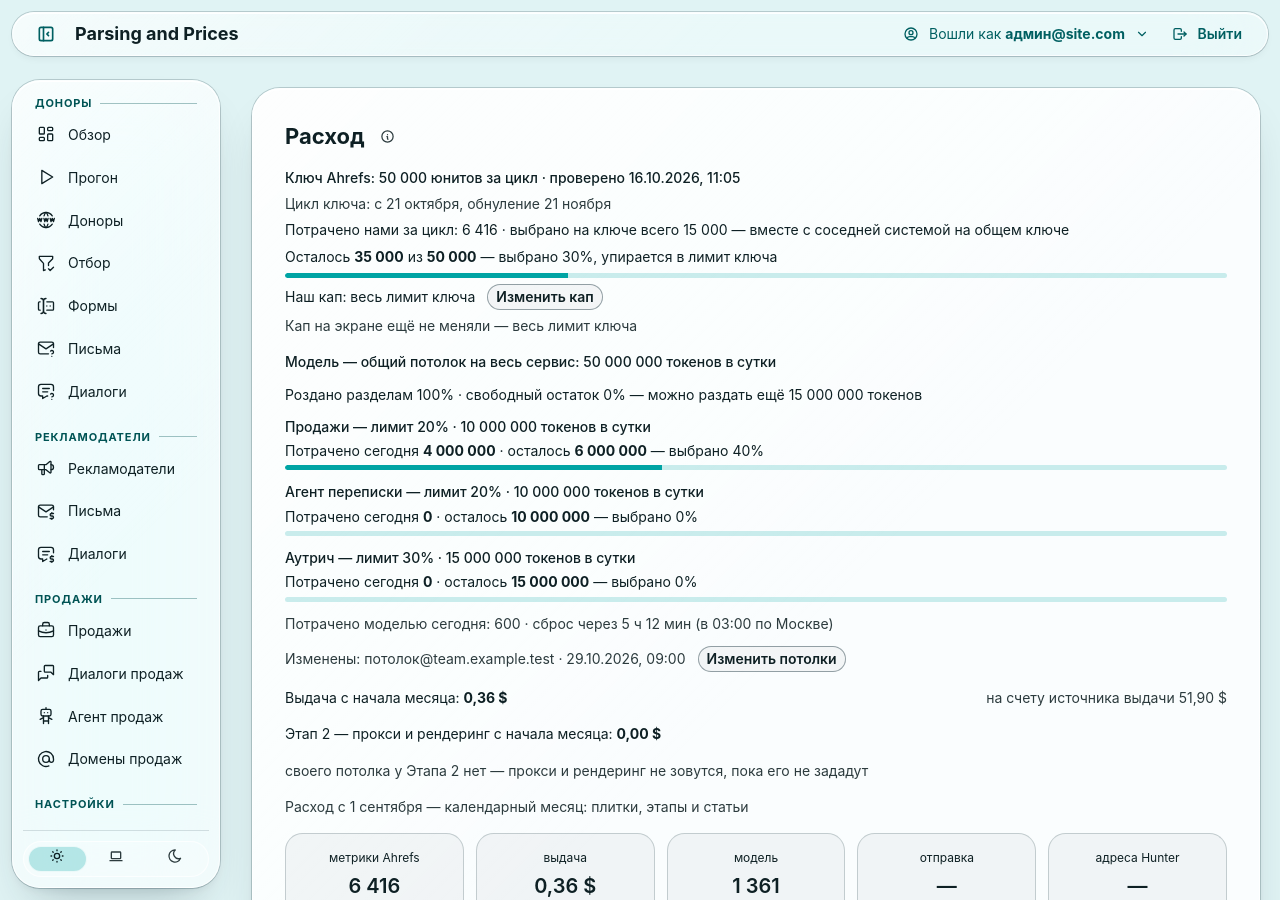
it: потолки модели на «Расходе» › раздать больше остатка и убавить до нуля нельзя
expect the text "Наш кап: весь лимит ключа" is shown: met, box [285,287,475,307]
What coordinates should you click on to do the following:
click the button "Изменить потолки"
I would click on:
 (772, 659)
Its box is [698,646,846,672].
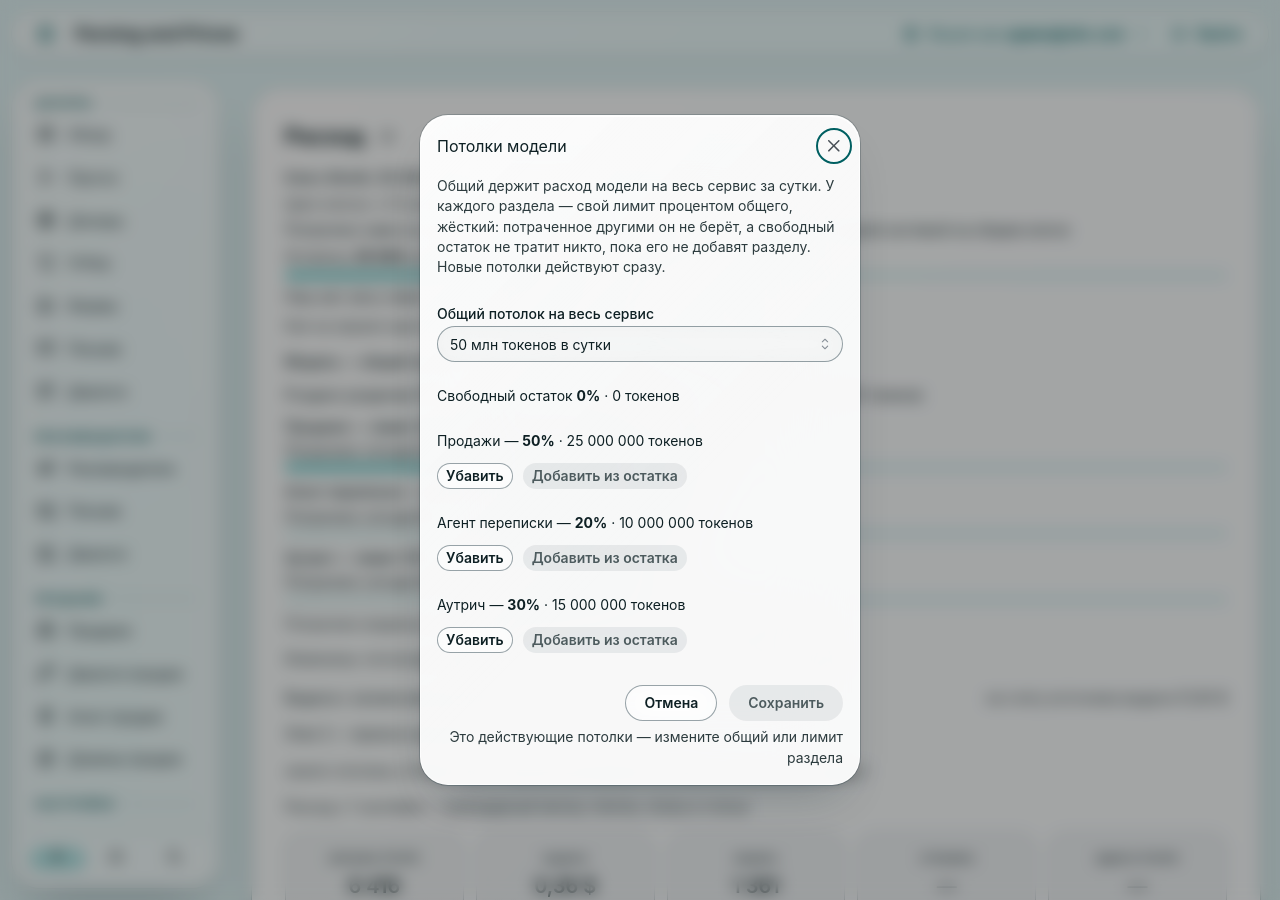
expect the button with aria-label "Добавить разделу «Аутрич» из остатка" is disabled: met, box [523,627,687,653]
What coordinates should you click on to do the following:
click the button with aria-label "Убавить разделу «Агент переписки»"
I would click on:
 (475, 558)
Its box is [437,545,513,571].
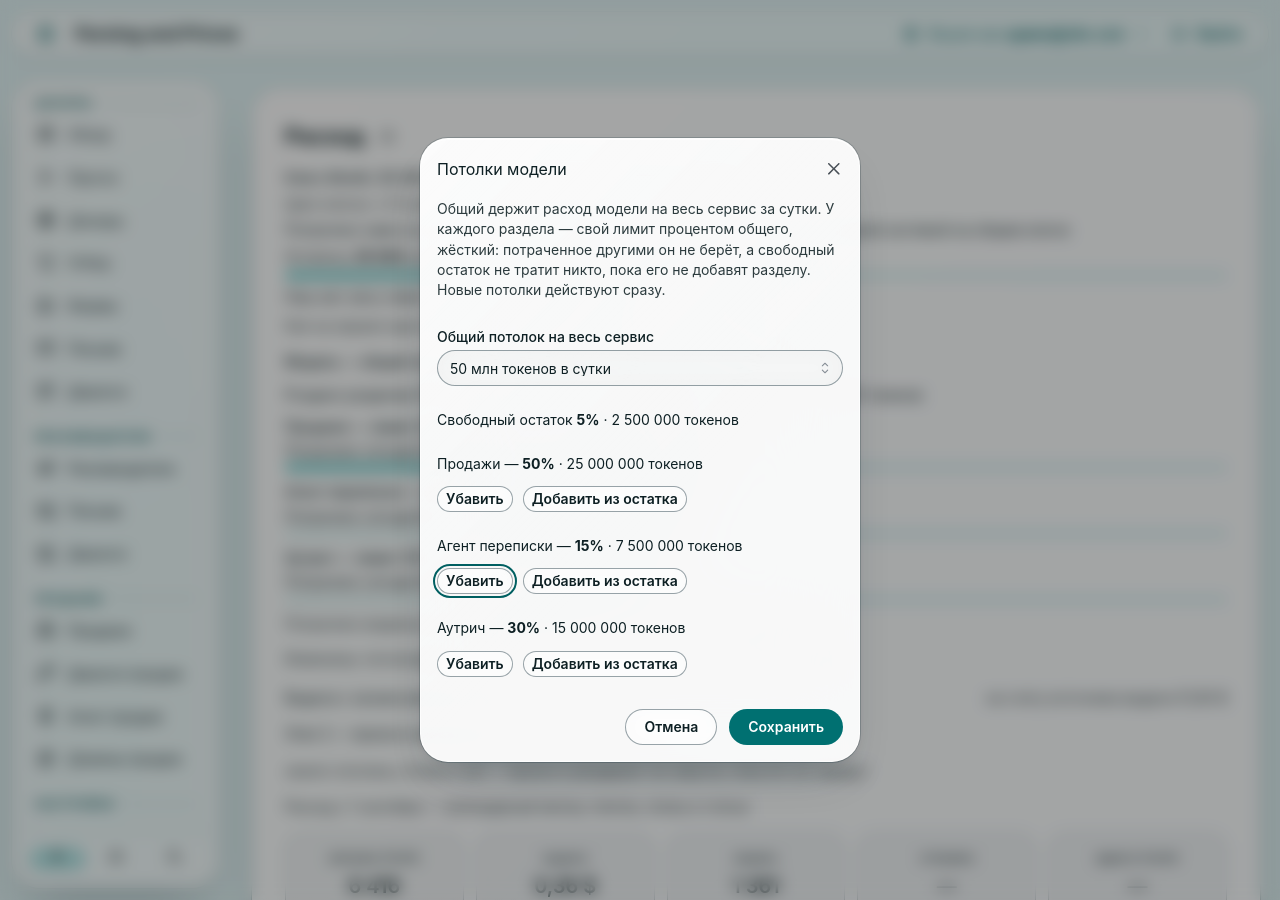
What coordinates should you click on to do the following:
click the button with aria-label "Убавить разделу «Агент переписки»"
I would click on:
 (475, 581)
Its box is [437,568,513,594].
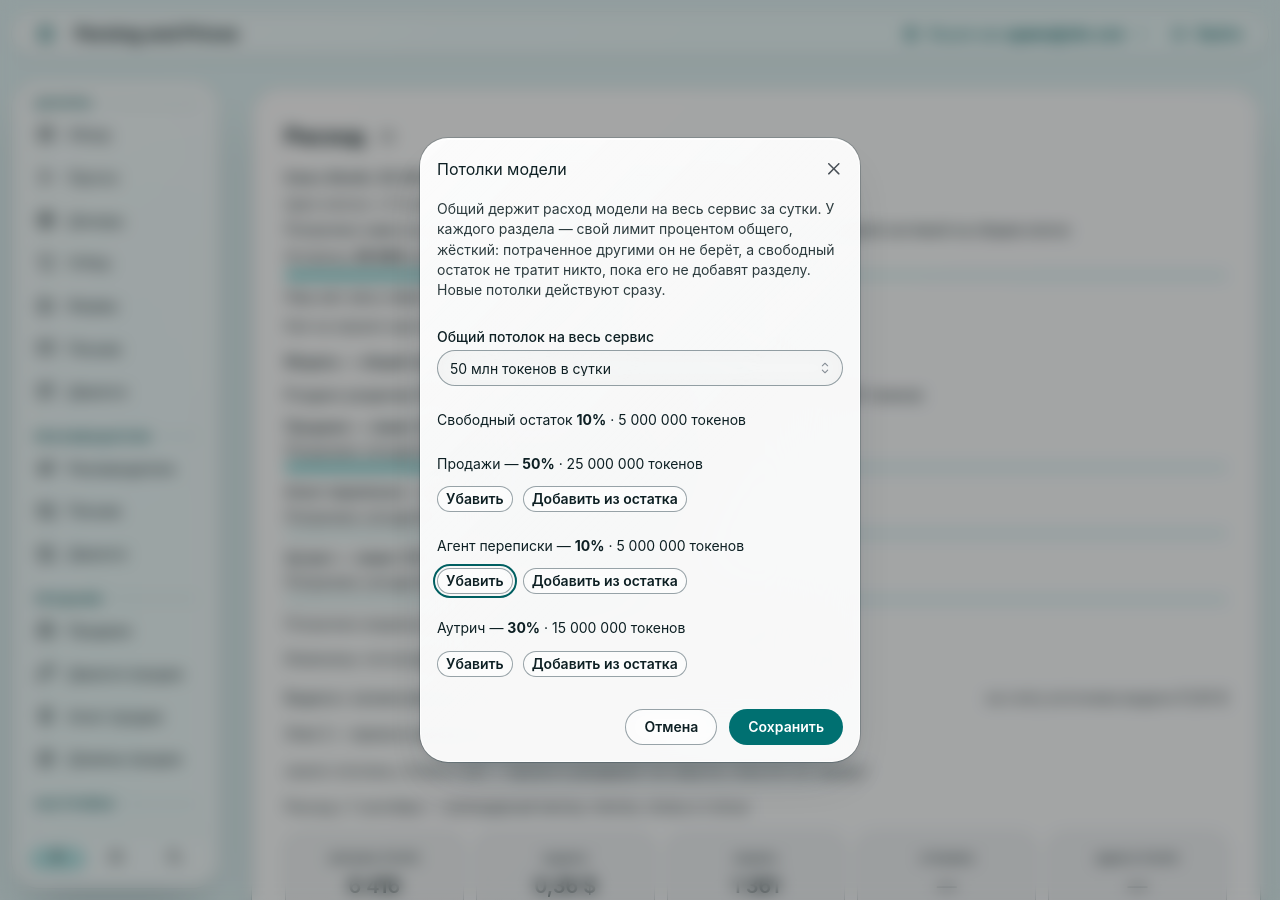
What coordinates should you click on to do the following:
click the button with aria-label "Убавить разделу «Агент переписки»"
I would click on:
 (475, 581)
Its box is [437,568,513,594].
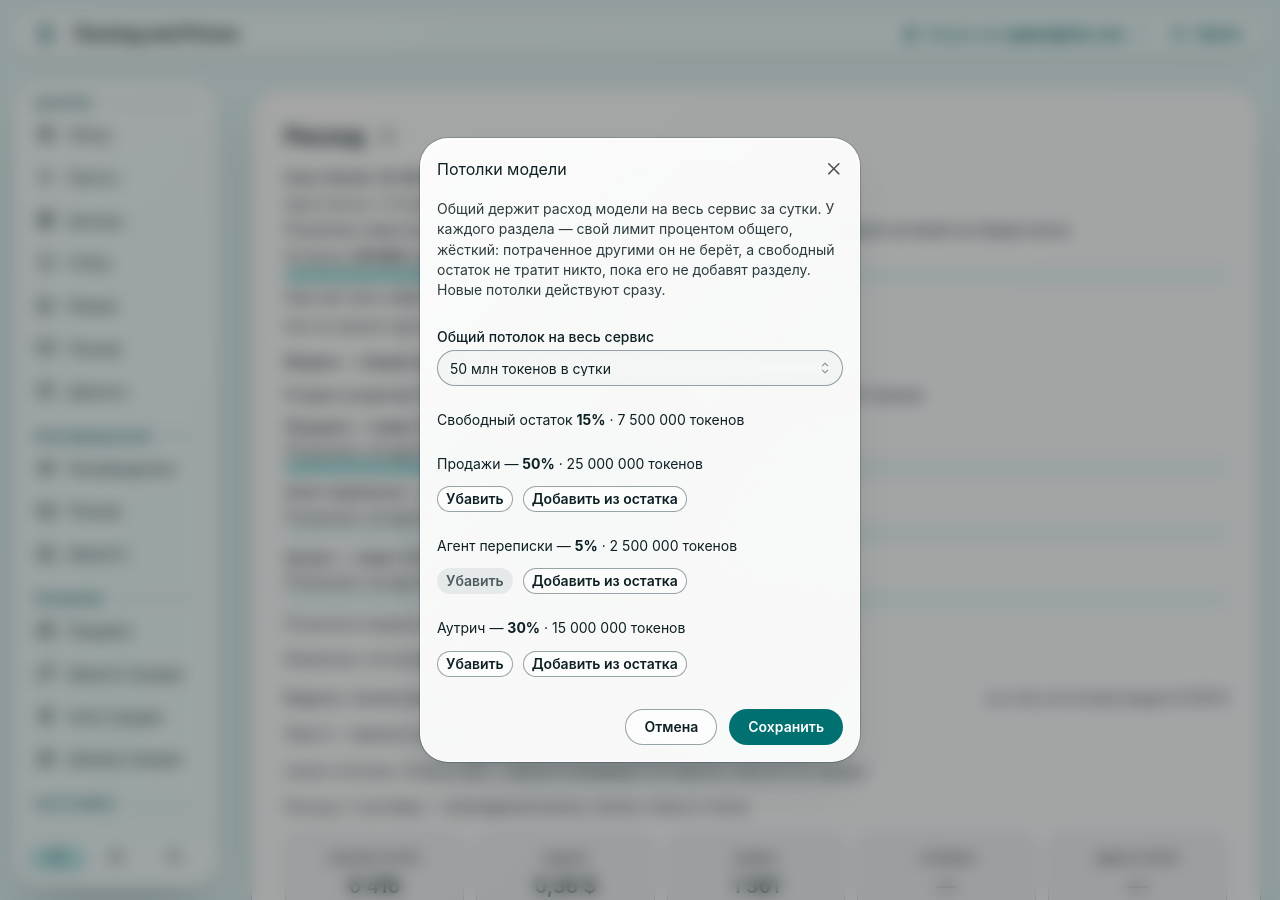
expect the button with aria-label "Убавить разделу «Агент переписки»" is disabled: met, box [437,568,513,594]
expect the text "Агент переписки — 5% · 2 500 000 токенов" is shown: met, box [437,536,737,556]
